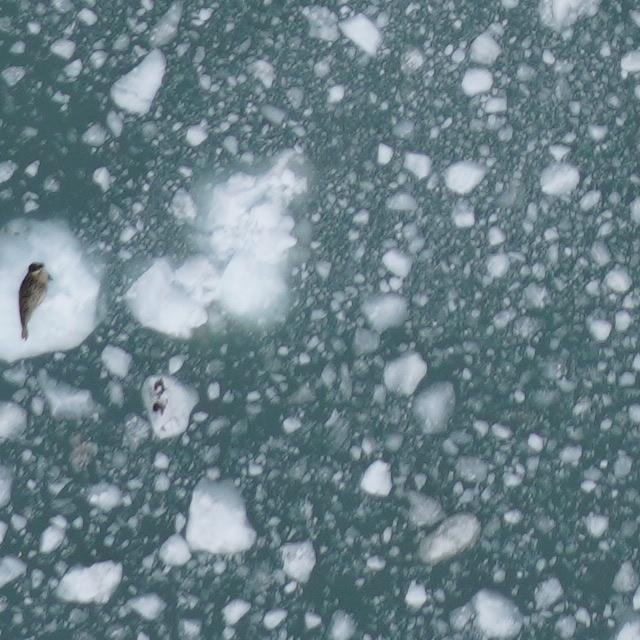seal: (16, 257, 56, 345)
